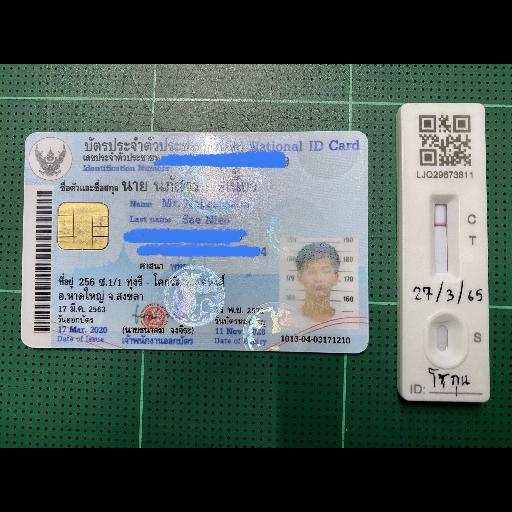Neg: (400, 104, 490, 400)
